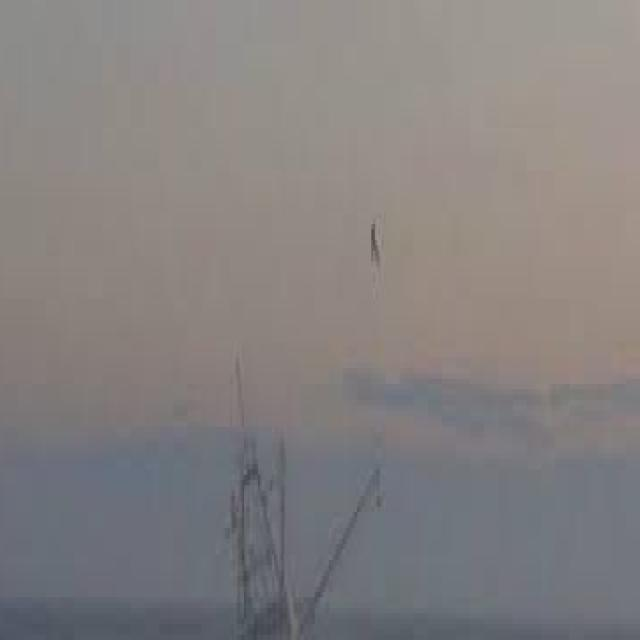fishing boat: (223, 293, 389, 640)
